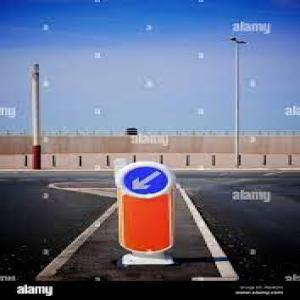keep left: (113, 161, 182, 202)
